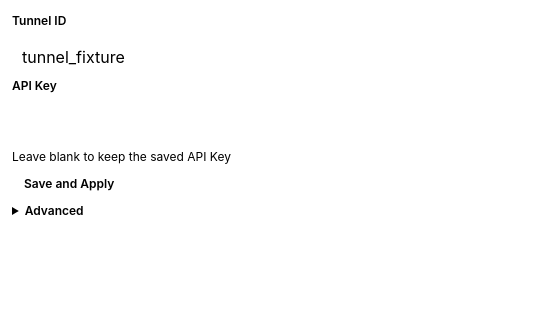
it: workspace configuration boundaries › reconciles a saved-but-not-applied error without replaying the save
This screenshot has width=557, height=316.
Click the button "Save and Apply": (69, 184) [12,166,126,202]
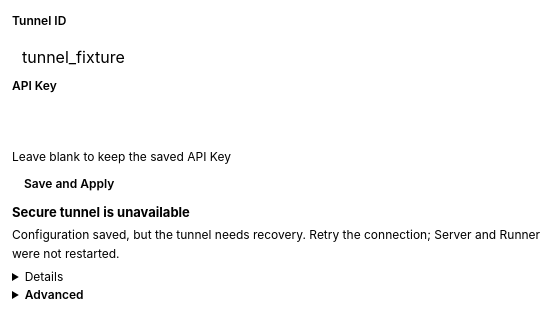
Check: the message shows "Configuration saved, but the tunnel needs recovery", box [12,227,540,261]
